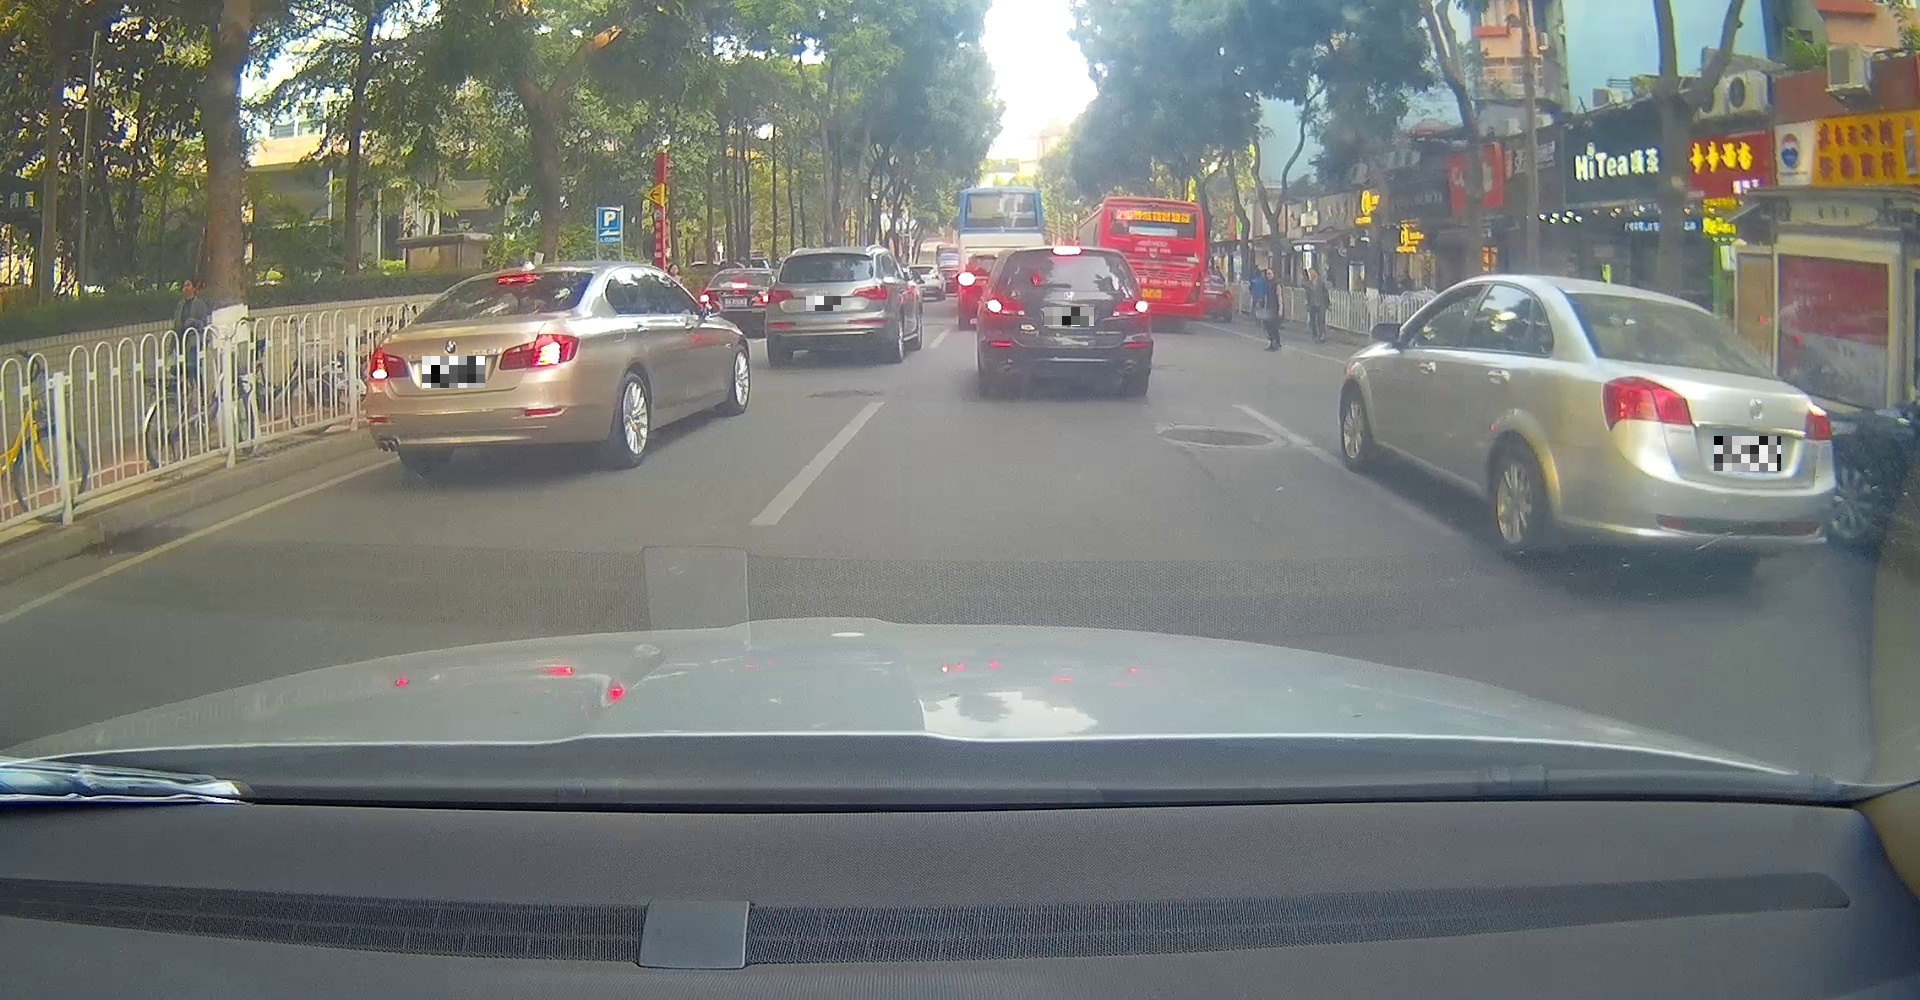L_light: (1600, 376, 1697, 431), (366, 345, 411, 379), (985, 294, 1026, 316), (764, 289, 794, 305)
R_light: (497, 334, 579, 371), (1803, 409, 1832, 442), (1111, 297, 1150, 316), (852, 286, 888, 299)
T_light: (497, 274, 538, 286), (1698, 364, 1735, 374), (1051, 245, 1082, 256), (820, 250, 836, 254)
day-brake: (362, 264, 594, 478), (978, 245, 1152, 398)
day-no: (1561, 278, 1840, 577), (764, 247, 894, 365)
plate_1: (422, 357, 485, 388)
plate_2: (806, 296, 841, 311)
plate_3: (1044, 307, 1095, 326)
plate_4: (1714, 437, 1782, 471)
